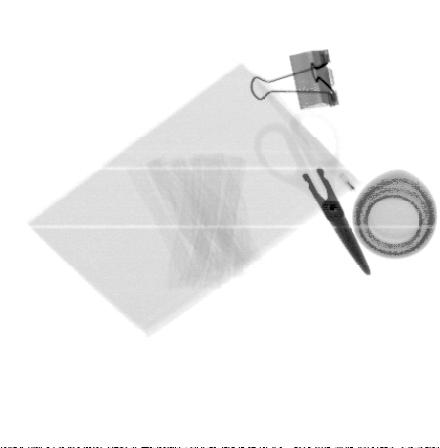Scissors: (254, 102, 372, 277)
